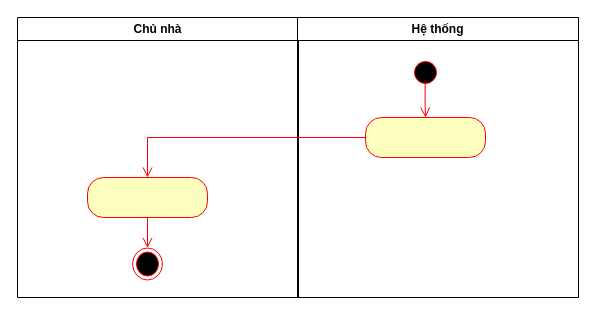
This 596x315 diagram has some shape labels left out. The centre of each missing label's shape, as x and y in pixels:
"Gửi báo cáo" goes at point (147, 197).
"Tổng hợp báo cáo" goes at point (425, 137).
